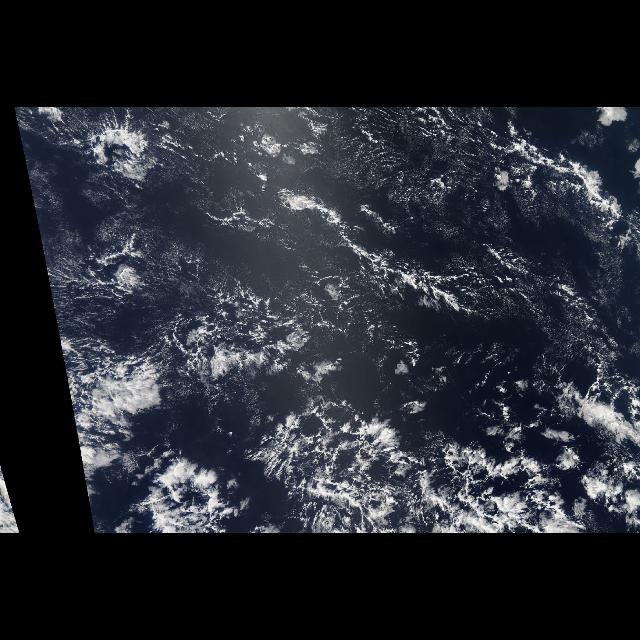Gravel: (42, 239, 638, 531)
Sugar: (329, 114, 539, 262)
